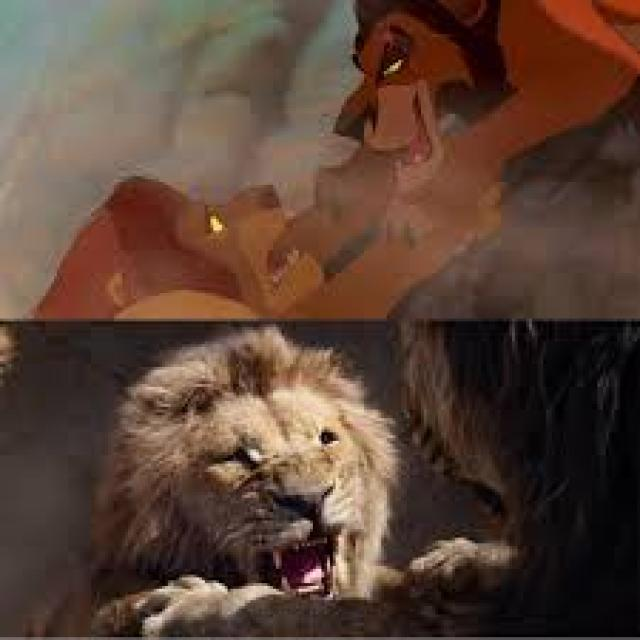Lion: (40, 332, 401, 637)
